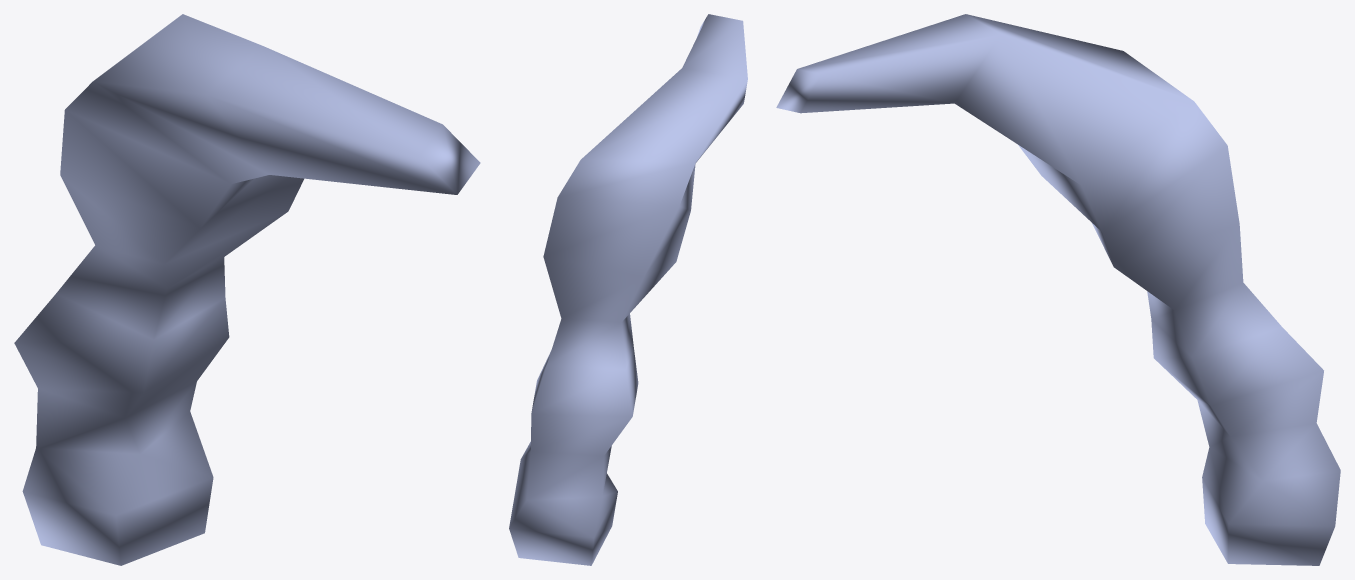
3 views of the same model, side by side, from view 1: azimuth 30°, elevation 25°; view 2: azimuth 150°, elevation 25°; view 3: azimuth 270°, elevation 25° (orthographic). The views are drawn at different scales.
Visible parts, largest first — view 1: smoke; view 2: smoke; view 3: smoke.
Boxes of the visible parts, bbox=[...] form: smoke: bbox=[14, 14, 480, 565]; smoke: bbox=[509, 14, 747, 565]; smoke: bbox=[776, 14, 1340, 565].
Size of the model in its own units: 1.01 by 2.88 by 2.9.
